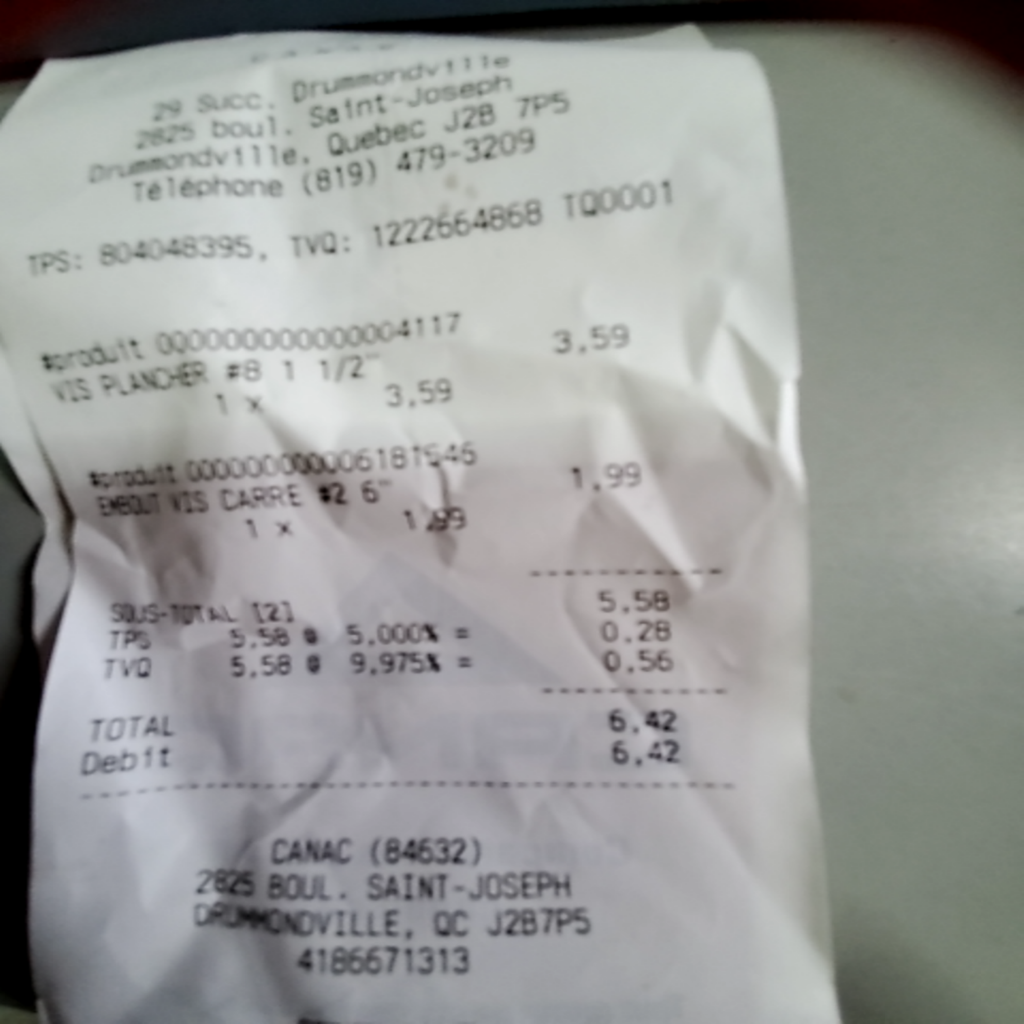recipt: (4, 23, 839, 1022)
